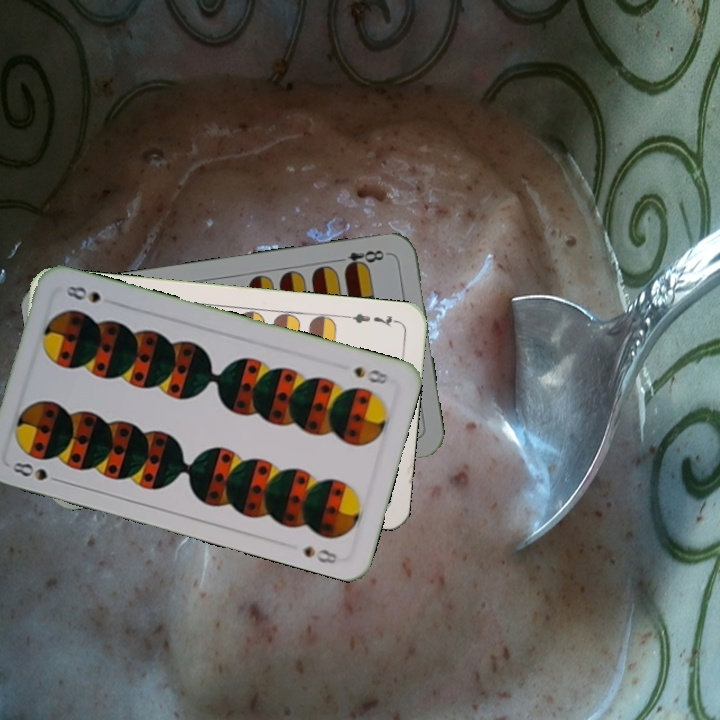E7: (342, 309, 401, 330)
E8: (332, 246, 391, 273)
S8: (9, 458, 66, 486), (350, 362, 392, 387)
